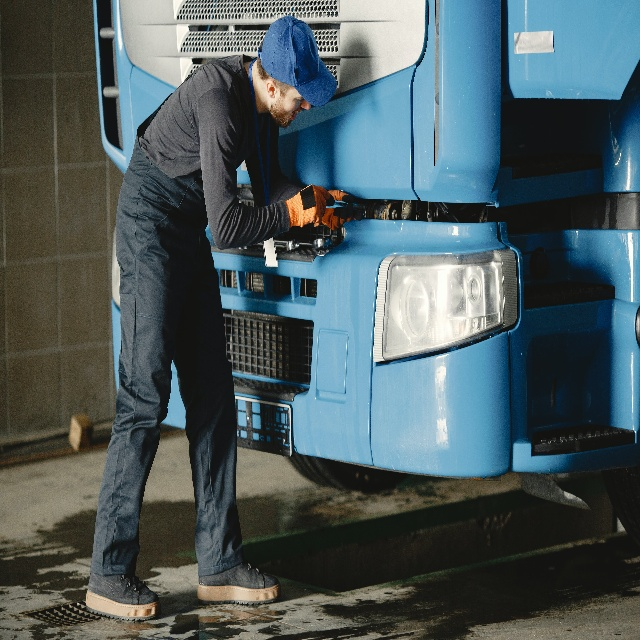Guantes: (288, 182, 332, 229), (324, 187, 362, 230)
